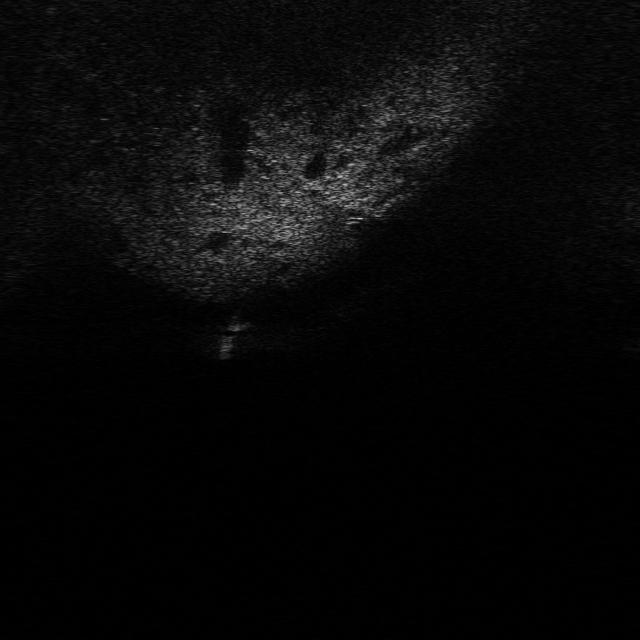cylinder: (213, 330, 238, 359)
